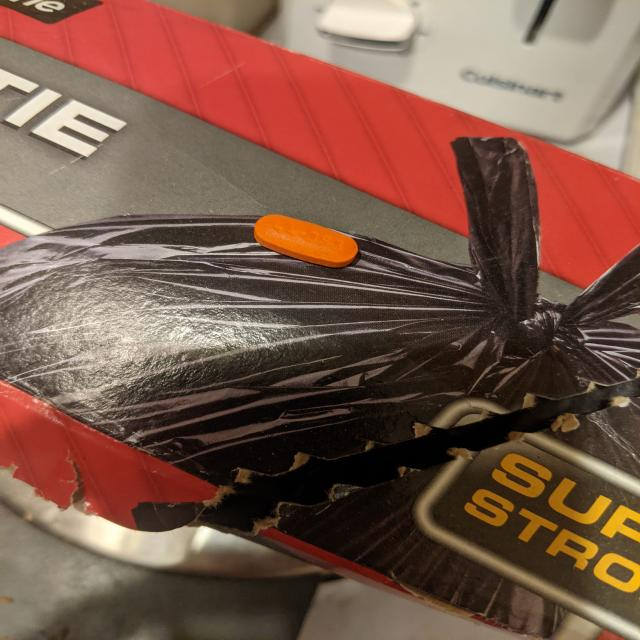non-organic waste: (252, 212, 360, 268)
